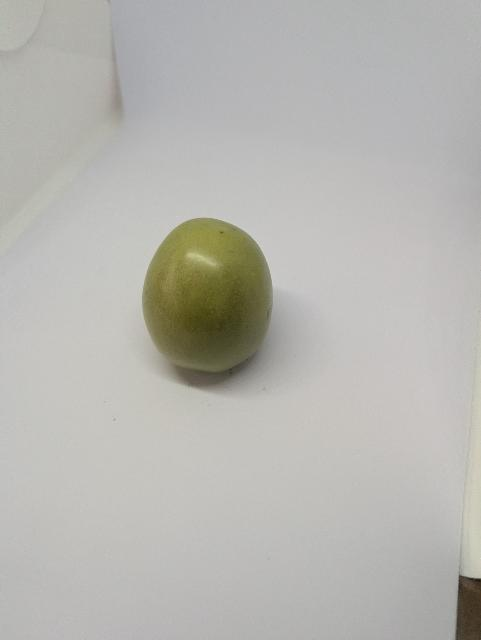green: (142, 218, 275, 374)
